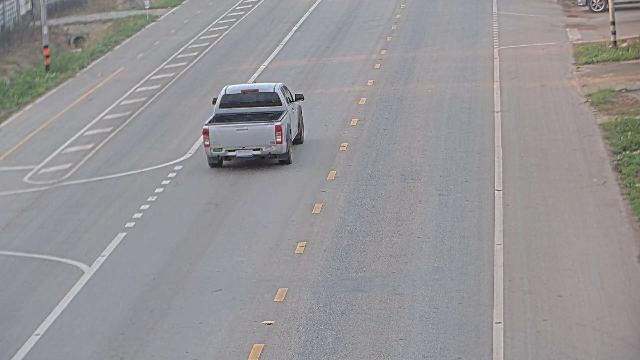pickup-truck: (201, 81, 305, 168)
